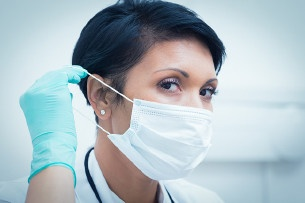Mask: (122, 57, 244, 179)
